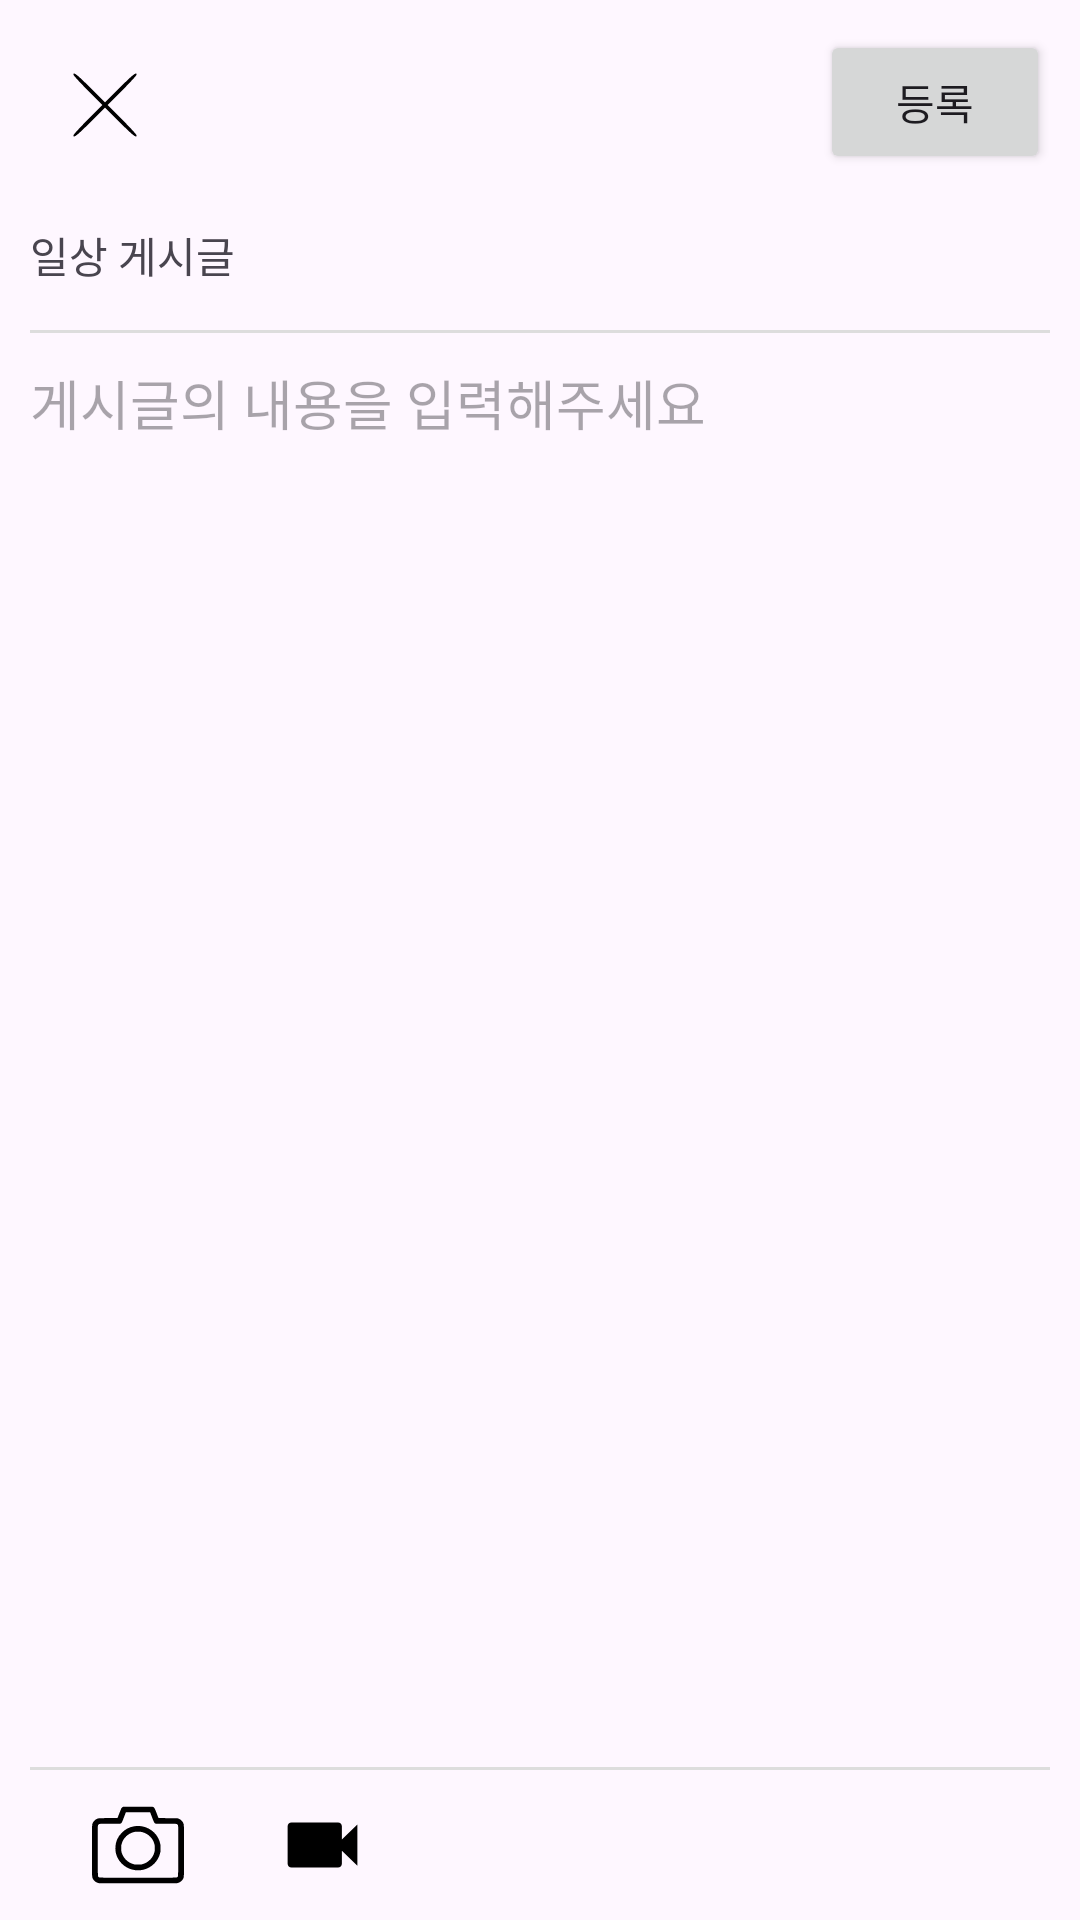

Point at icon controls on the screen. Image size 1080×1920, points as [x,y].
camera: [138,1845]
cancel: [105,105]
videocam: [322,1845]
